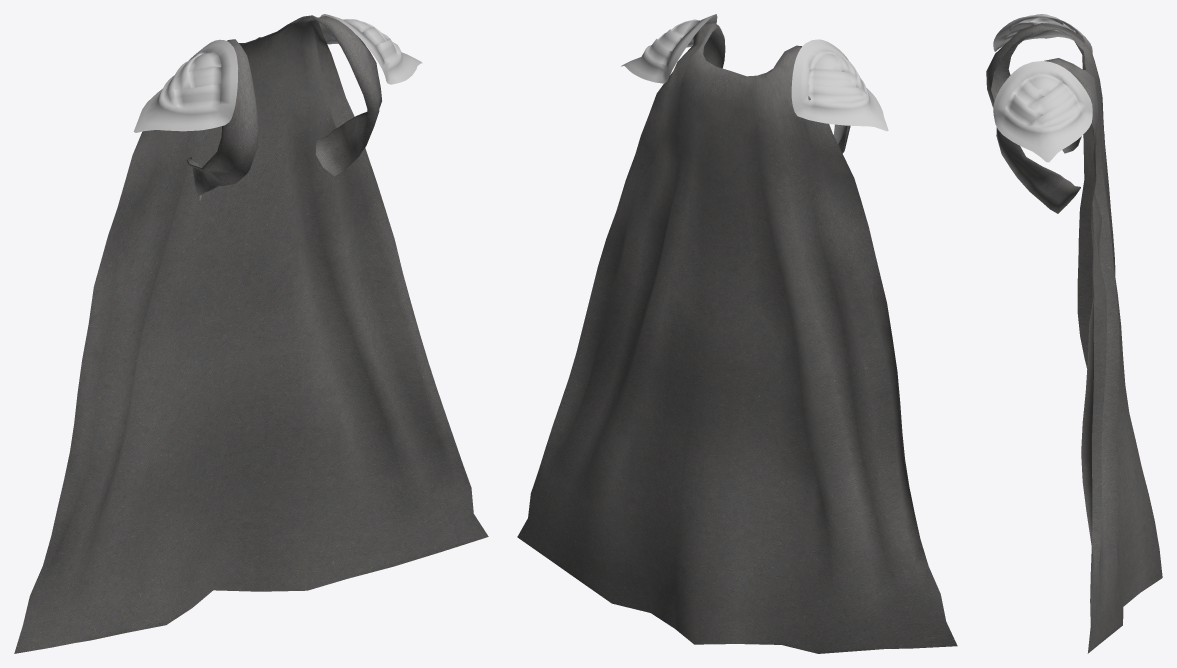
File: rivendell_pauldron_tier2_cape_silvergold.fbx
3 renders of one model, left to right at view 1: azimuth 30°, elevation 25°; view 2: azimuth 150°, elevation 25°; view 3: azimuth 270°, elevation 25°, orthographic. The views are drawn at different scales.
Parts seen in each view (by area): view 1: rivendell_pauldron_tier2_cape_silvergold.1, rivendell_pauldron_tier2_cape_silvergold.0; view 2: rivendell_pauldron_tier2_cape_silvergold.1, rivendell_pauldron_tier2_cape_silvergold.0; view 3: rivendell_pauldron_tier2_cape_silvergold.1, rivendell_pauldron_tier2_cape_silvergold.0.
Boxes of the visible parts, box(x1,y1,x2,y2) form: rivendell_pauldron_tier2_cape_silvergold.1: box(14, 15, 488, 653); rivendell_pauldron_tier2_cape_silvergold.0: box(133, 14, 422, 132); rivendell_pauldron_tier2_cape_silvergold.1: box(517, 23, 957, 653); rivendell_pauldron_tier2_cape_silvergold.0: box(621, 14, 888, 131); rivendell_pauldron_tier2_cape_silvergold.1: box(986, 23, 1162, 653); rivendell_pauldron_tier2_cape_silvergold.0: box(993, 14, 1092, 162).
Bounding box in the file's own units: 1.22 × 0.4447 × 1.5.
